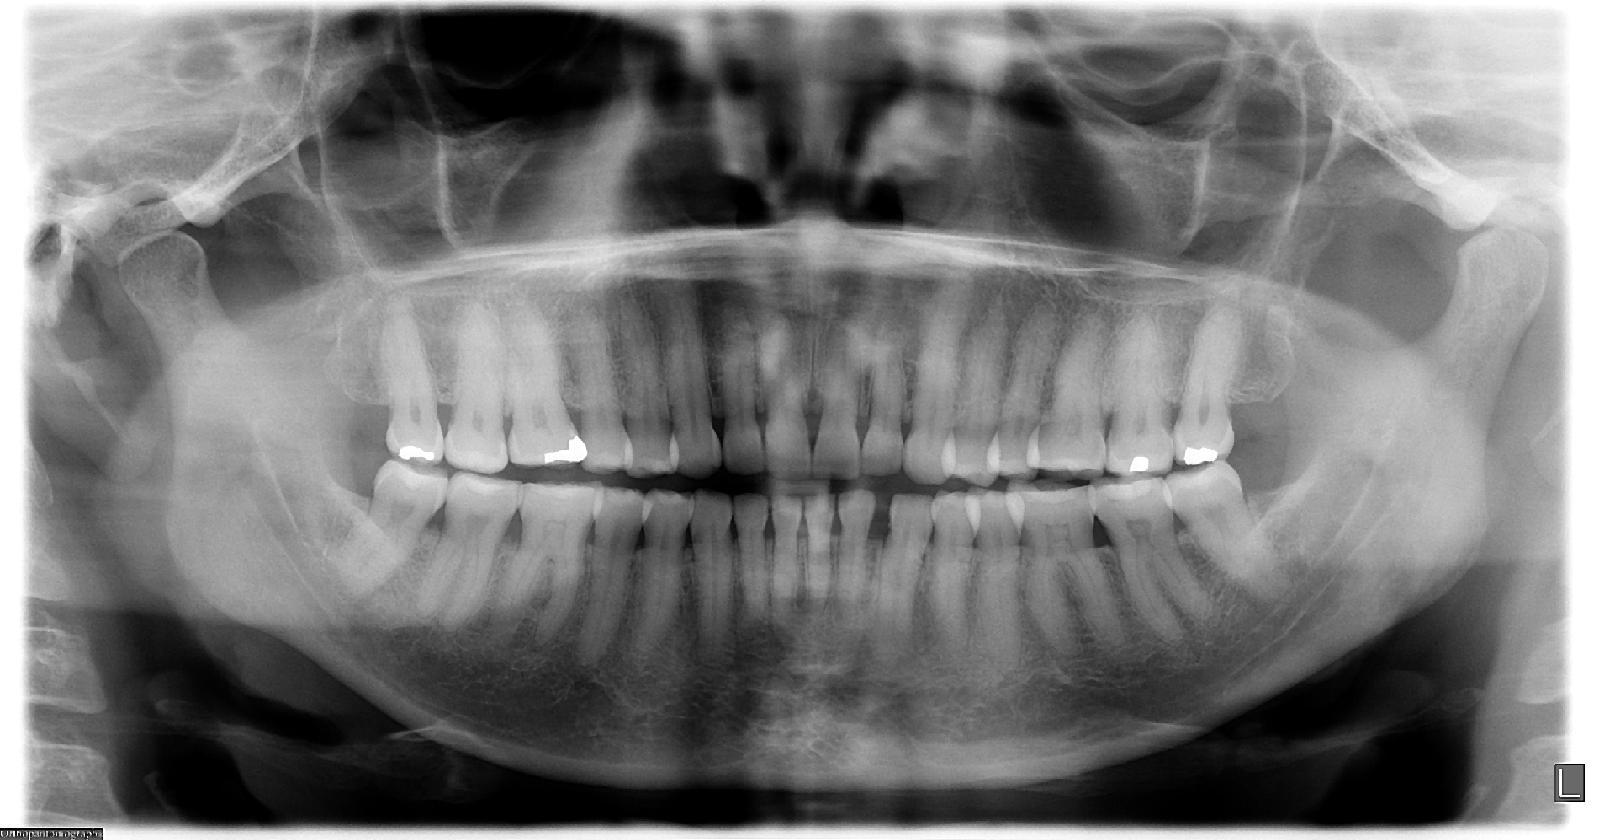Erupted: (1167, 462, 1298, 607), (334, 460, 445, 622)
